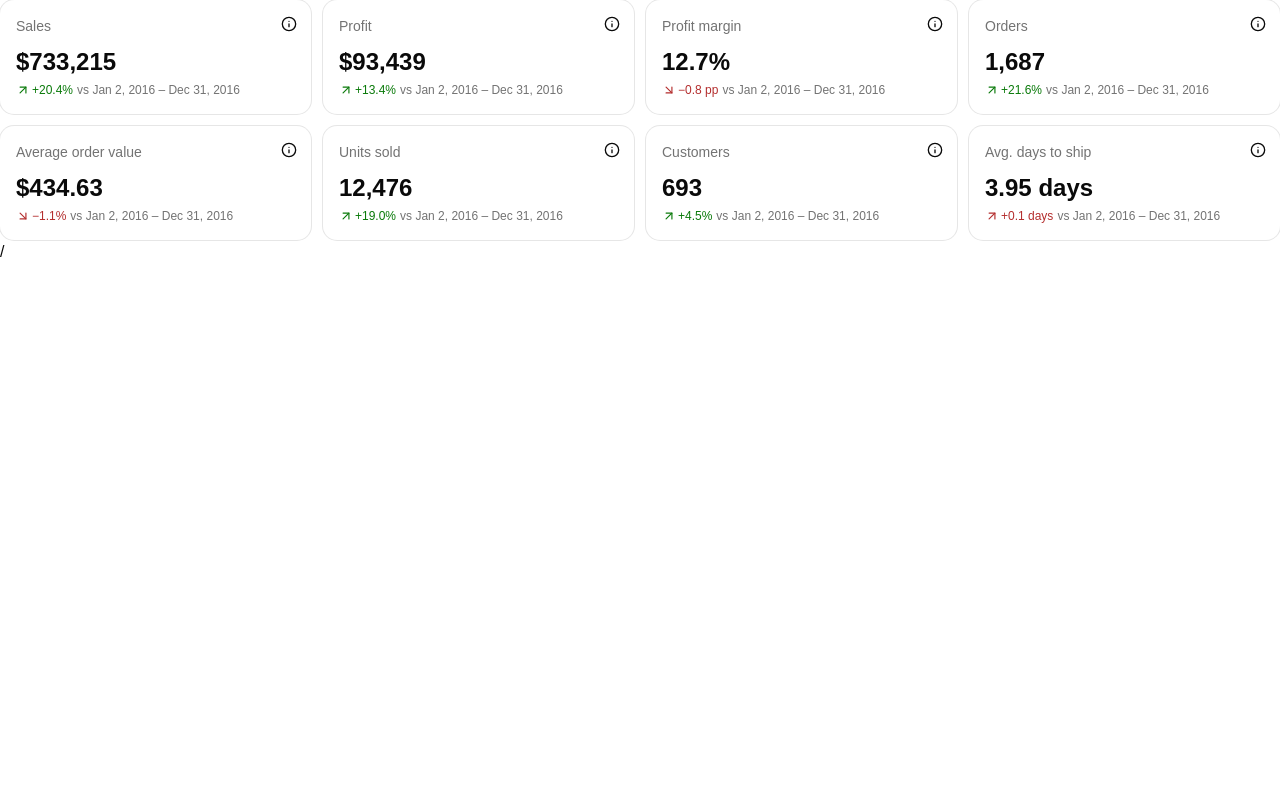
KpiGrid › shows values, changes with direction, and formula explanations
Expected: the text "$733,215" is shown, 16,48 -> 116,75
Expected: the text "12.7%" is shown, 662,48 -> 730,75
Click the button named "How is profit margin calculated?" at {"x": 935, "y": 24}, box 921,10 -> 949,38
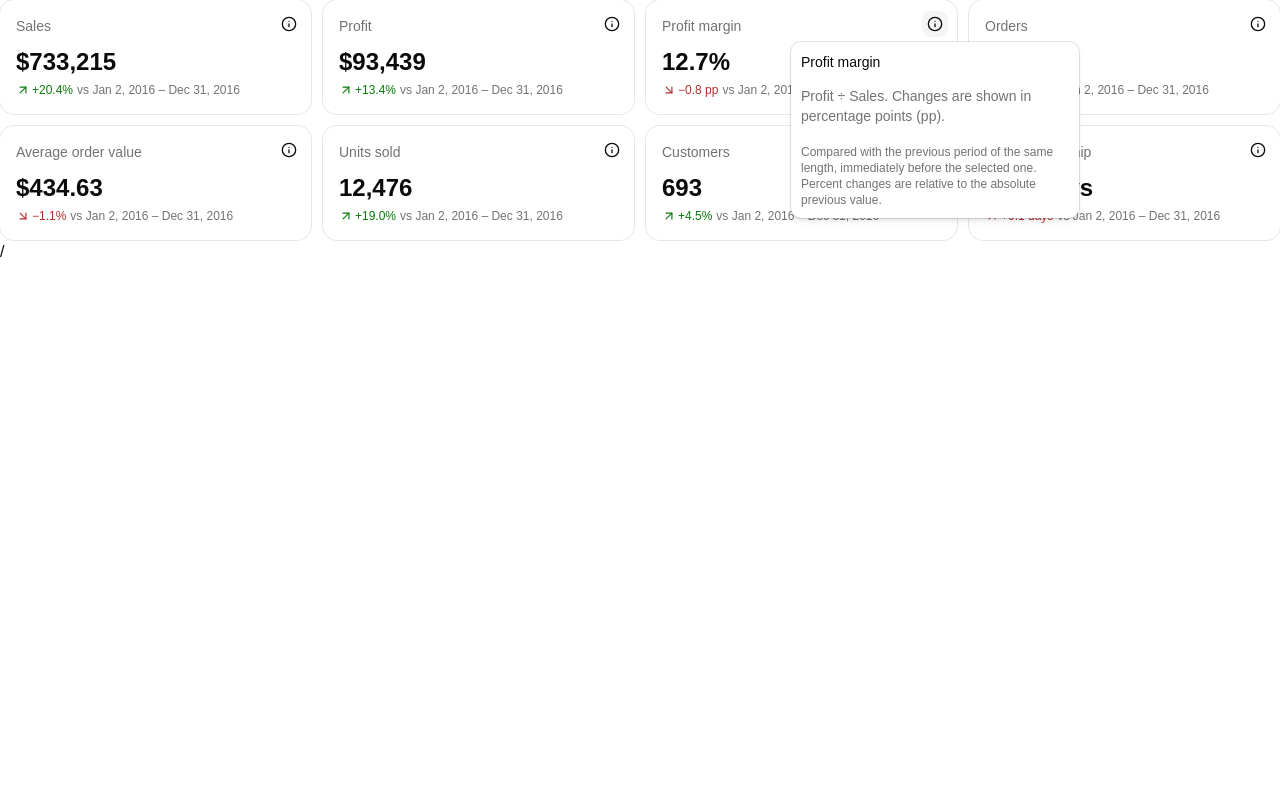
Expected: the text "Profit ÷ Sales. Changes are shown in percentage points (pp)." is shown, 801,86 -> 1069,126
